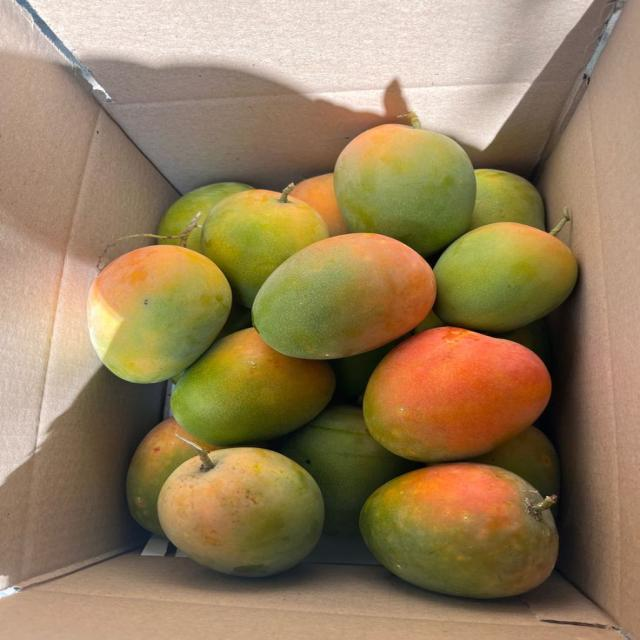mango: (360, 463, 558, 598), (364, 327, 551, 462), (253, 234, 435, 358), (159, 448, 323, 576), (87, 245, 231, 382), (171, 329, 334, 445), (334, 124, 475, 255), (280, 406, 416, 534), (434, 223, 577, 332), (202, 190, 328, 307), (127, 418, 219, 535), (158, 183, 253, 251), (468, 426, 559, 495), (468, 169, 544, 230), (330, 340, 399, 399), (291, 173, 348, 236), (494, 319, 553, 369), (216, 304, 251, 340), (414, 311, 445, 333)
